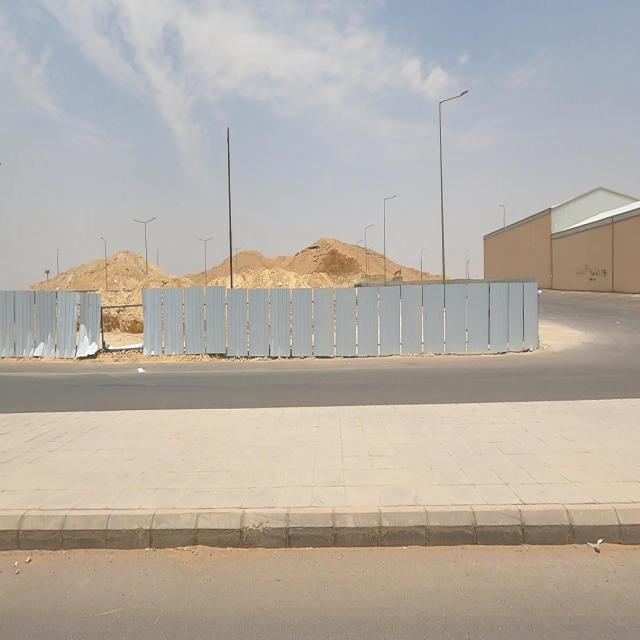Graffiti: (575, 266, 609, 288)
